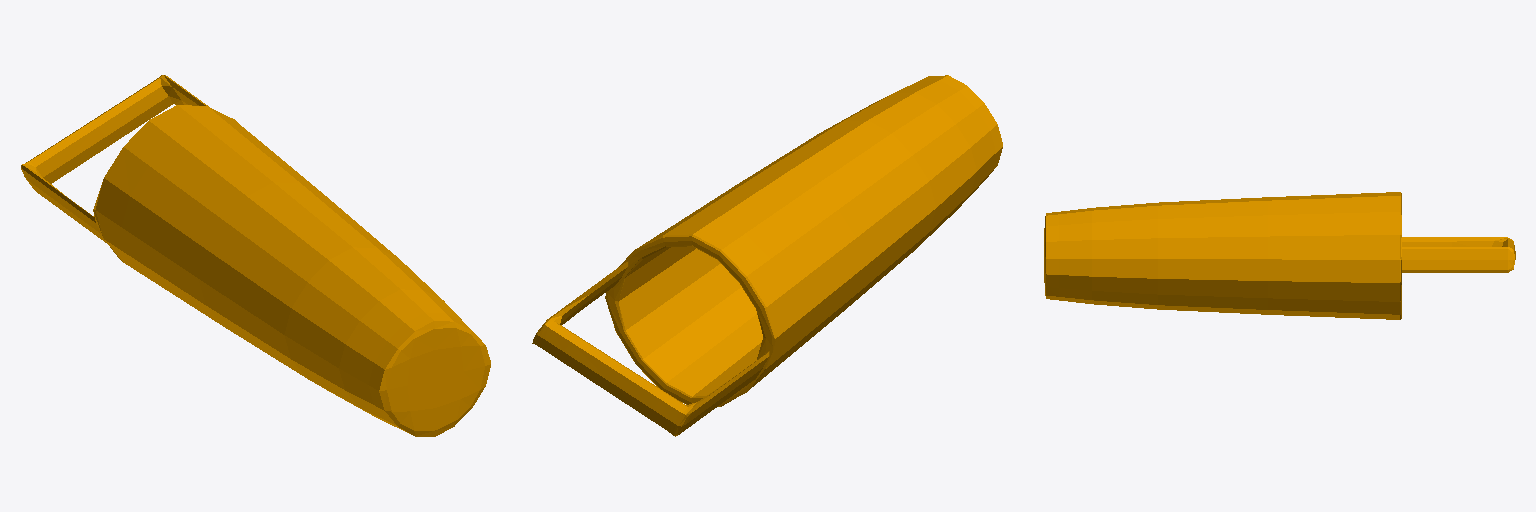
robot.urdf — 291:
<?xml version="1.0" ?>
<robot name="291">
  <link name="body">
    <visual>
      <geometry>
        <mesh filename="../shapes/291.obj"/>
      </geometry>
    </visual>
    <collision>
      <geometry>
        <mesh filename="../shapes/291.obj"/>
      </geometry>
    </collision>
  </link>
</robot>

--- What the picture shows (computed from the rendered views, not written in the file) ---
Views: 3 orthographic renders of the robot side by side, from view 1: azimuth 30°, elevation 25°; view 2: azimuth 150°, elevation 25°; view 3: azimuth 270°, elevation 25°.
Robot: 291 — 1 links, 0 joints (none); root link body; default pose: all joints at 0.
Visible links, largest first — view 1: body; view 2: body; view 3: body.
Link boxes in pixels (x1,y1,x2,y2): body: [21, 75, 490, 436]; body: [532, 75, 1002, 436]; body: [1044, 192, 1515, 319].
Size in the robot's own frame: 2.88 by 9.96 by 2.8 metres.
Meshes: 1 distinct files referenced, 1 mesh visuals loaded (1 OBJ).